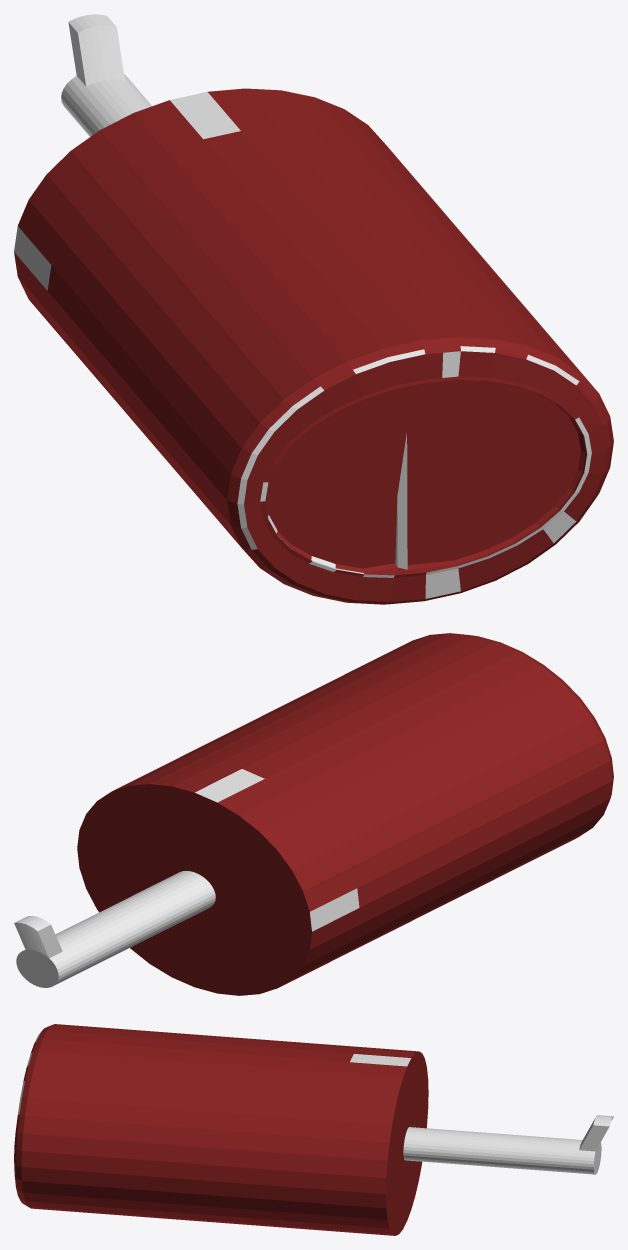
Rendered from meat.glb.
3 renders of one model, top to bottom at view 1: azimuth 30°, elevation 25°; view 2: azimuth 150°, elevation 25°; view 3: azimuth 270°, elevation 25°, orthographic. The views are drawn at different scales.
Parts seen in each view (by area): view 1: Cylinder.001; view 2: Cylinder.001; view 3: Cylinder.001.
Part boxes in pixels (x1,y1,x2,y2): Cylinder.001: (14,14,613,604); Cylinder.001: (14,633,613,995); Cylinder.001: (14,1024,613,1235).
Bounding box in the file's own units: 0.2749 × 0.1538 × 0.5417.
